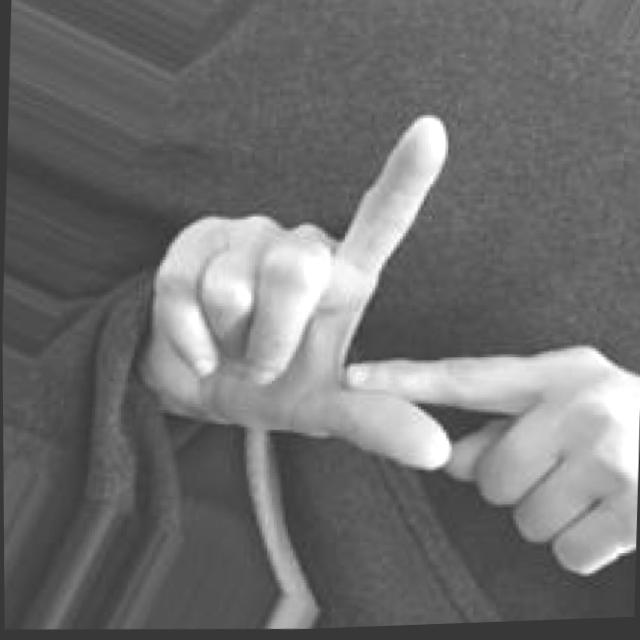J: (138, 94, 640, 596)
